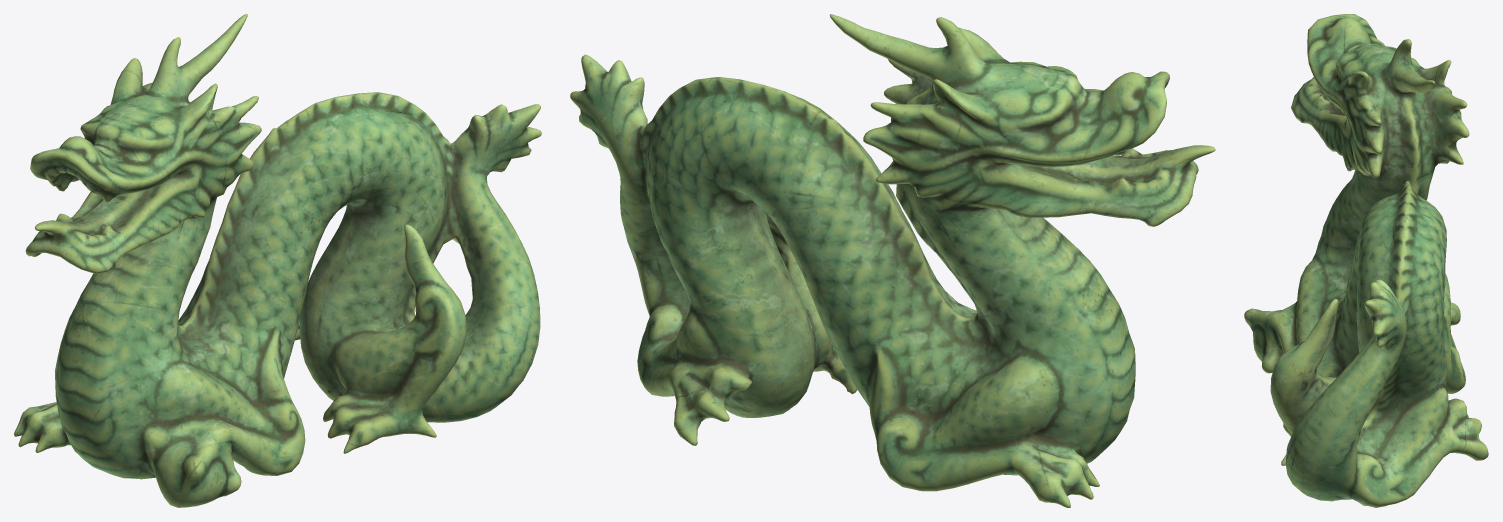
Rendered from Dragonobj.obj.
3 renders of one model, left to right at view 1: azimuth 30°, elevation 25°; view 2: azimuth 150°, elevation 25°; view 3: azimuth 270°, elevation 25°, orthographic. The views are drawn at different scales.
Visible parts, largest first — view 1: defaultMaterial; view 2: defaultMaterial; view 3: defaultMaterial.
Boxes of the visible parts, box(x1,y1,x2,y2) form: defaultMaterial: box(14, 14, 541, 507); defaultMaterial: box(570, 14, 1215, 507); defaultMaterial: box(1244, 14, 1488, 507).
Size of the model in its own units: 142 by 99.61 by 63.21.
